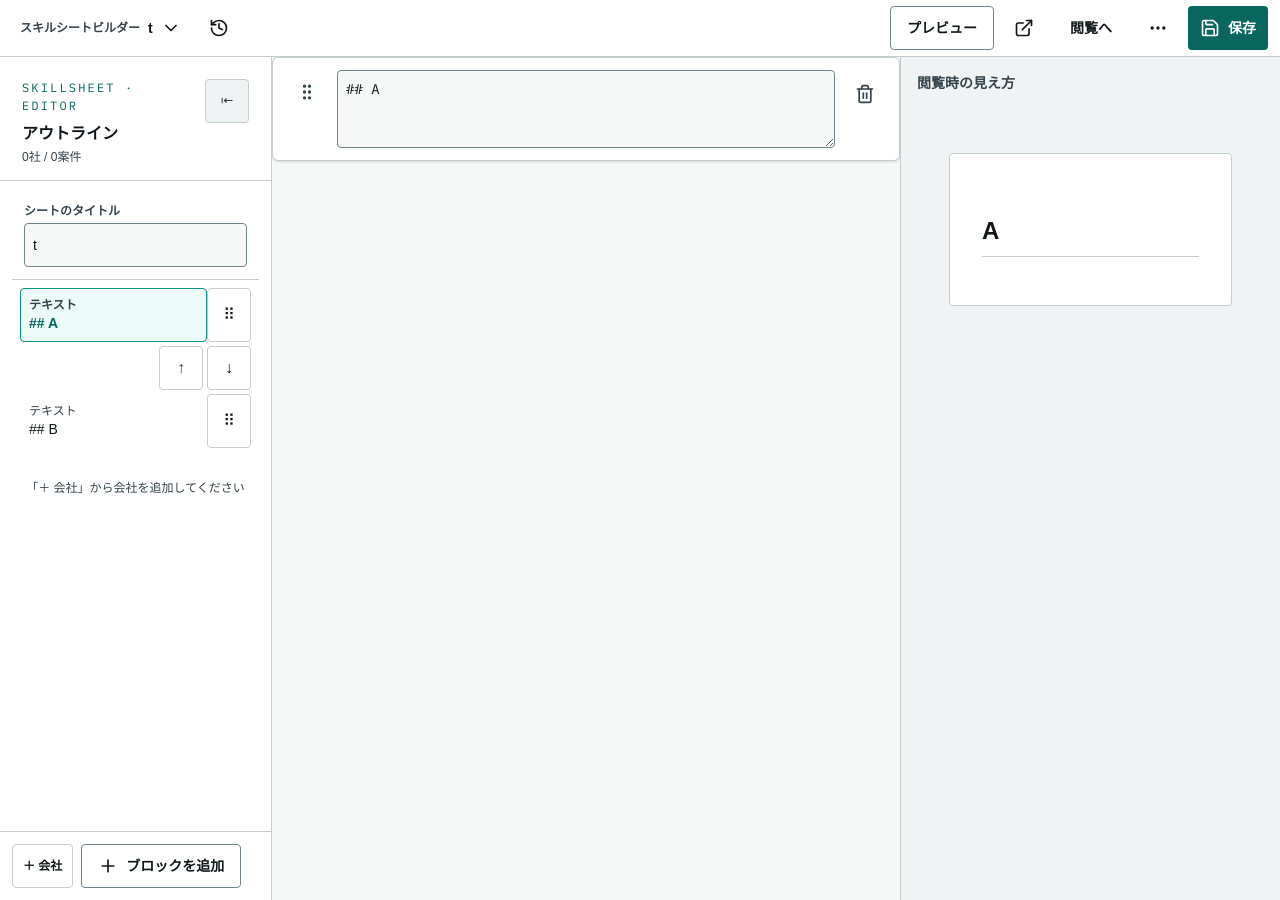
Test case: BuilderClient › 初期 markdown ブロックがテキストエリアとして表示される
Expected: the text box with placeholder "Markdown を入力..." holds "## A", [337,70,835,148]
Click the button with aria-label "テキスト: ## B" at [114, 421], box [20,394,207,448]
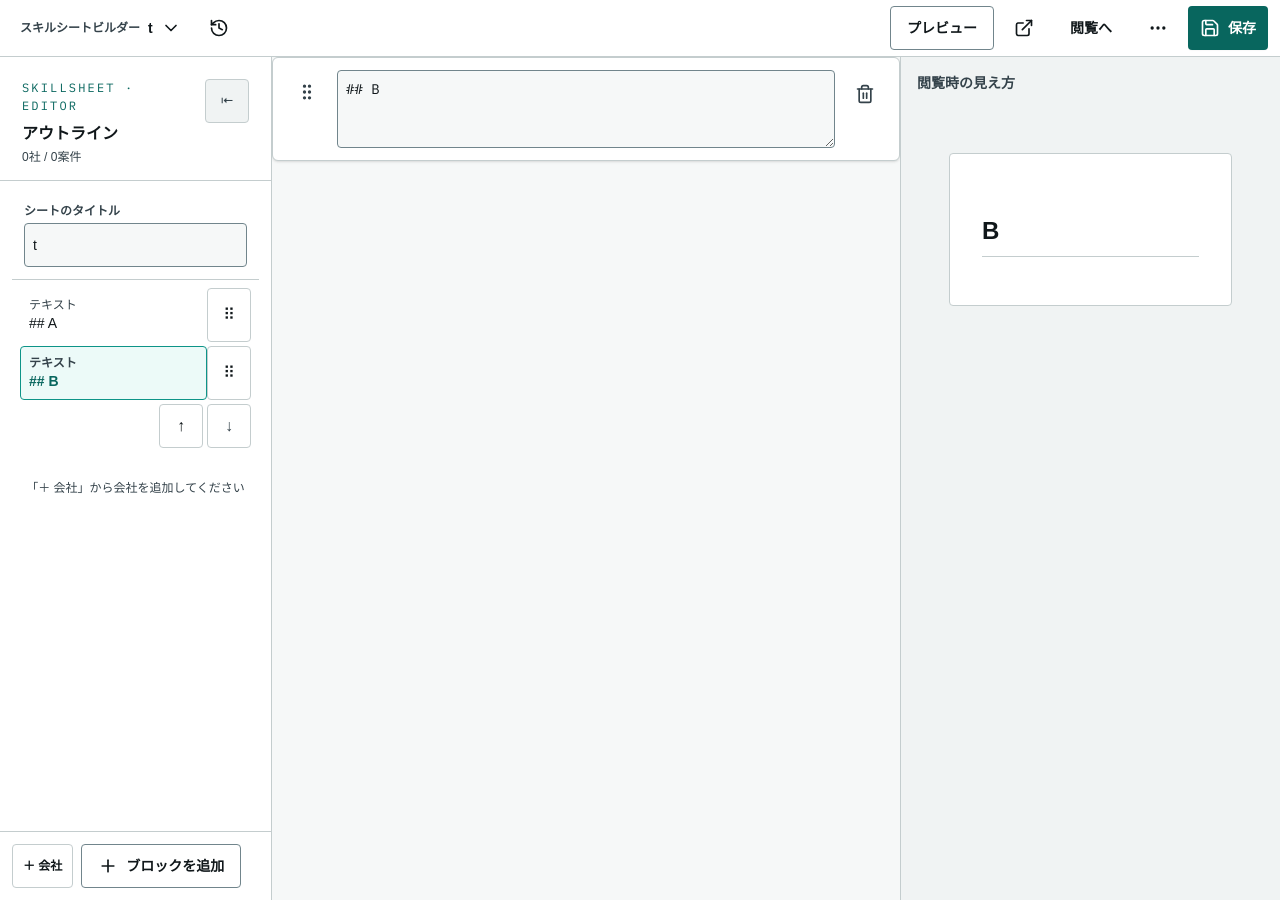
Now the text box with placeholder "Markdown を入力..." holds "## B", box [337,70,835,148]
Click the button with aria-label "テキスト: ## A" at [114, 315], box [20,288,207,342]
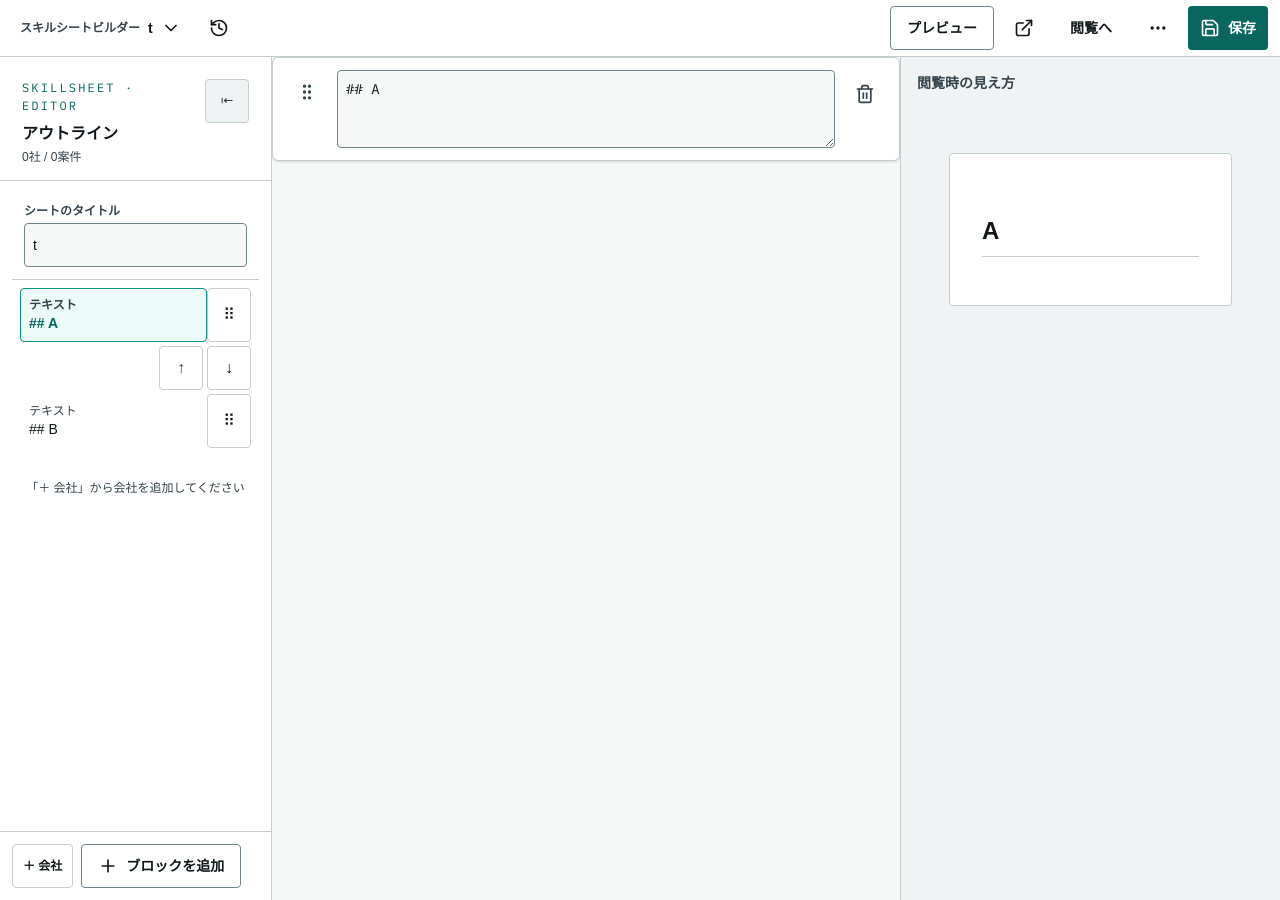
Now the text box with placeholder "Markdown を入力..." holds "## A", box [337,70,835,148]
